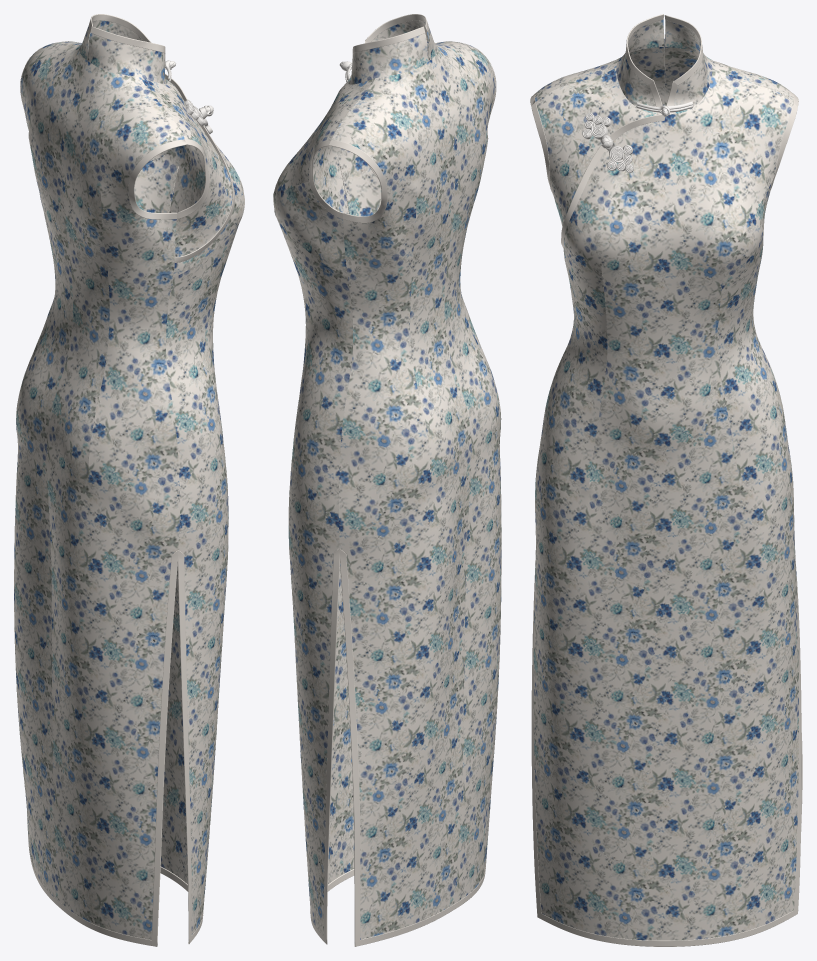
The model's file is blue_white_floral_cheongsam_dress.glb.
3 renders of one model, left to right at view 1: azimuth 30°, elevation 25°; view 2: azimuth 150°, elevation 25°; view 3: azimuth 270°, elevation 25°, orthographic.
Visible parts, largest first — view 1: Object_8, Object_6, Object_10, Object_7, Object_11, Object_9; view 2: Object_10, Object_6, Object_8, Object_7, Object_11, Object_9, Object_4; view 3: Object_6, Object_7, Object_11, Object_9, Object_10, Object_8, Object_3.
Part boxes in pixels (<box>): Object_8: <box>46,61,184,939</box>; Object_6: <box>76,42,244,934</box>; Object_10: <box>14,41,87,901</box>; Object_7: <box>20,26,234,946</box>; Object_11: <box>160,550,203,943</box>; Object_9: <box>79,14,151,60</box>; Object_10: <box>331,61,471,939</box>; Object_6: <box>273,78,381,935</box>; Object_8: <box>427,41,501,903</box>; Object_7: <box>329,14,496,945</box>; Object_11: <box>309,140,378,944</box>; Object_9: <box>348,26,428,84</box>; Object_4: <box>339,549,360,946</box>; Object_6: <box>533,68,798,940</box>; Object_7: <box>530,14,798,248</box>; Object_11: <box>531,103,801,946</box>; Object_9: <box>664,15,712,114</box>; Object_10: <box>664,47,793,352</box>; Object_8: <box>535,47,665,354</box>; Object_3: <box>582,112,633,172</box>.
Size of the model in its own units: 25.75 by 129 by 35.85.
Materials: 5 (3 with a texture image).
